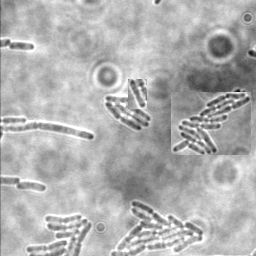Dividing: (1, 123, 95, 142), (8, 41, 35, 52)
Microcolony: (109, 200, 205, 255), (171, 92, 251, 155), (25, 212, 94, 255), (103, 96, 150, 132), (16, 182, 48, 193)
Rod: (128, 79, 147, 109)
